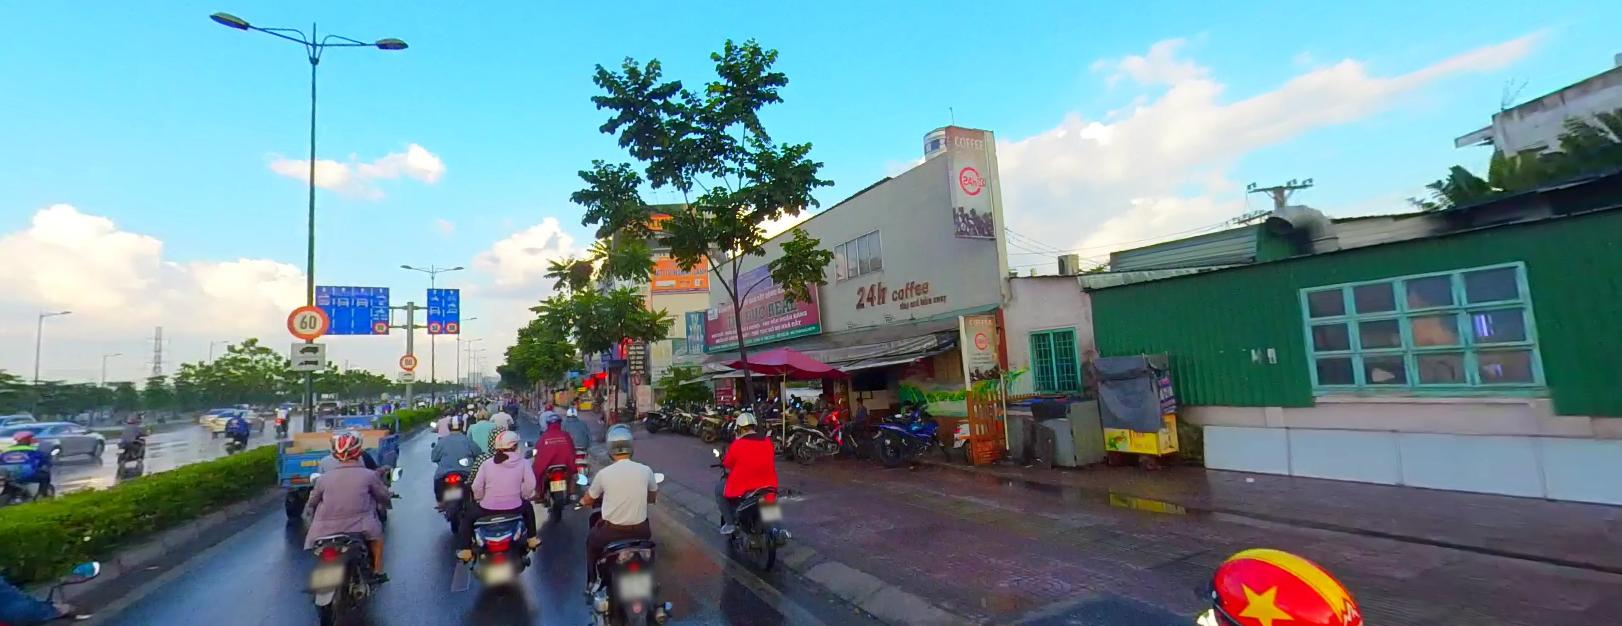Gioi han toc do: (286, 305, 332, 340), (398, 352, 416, 369), (371, 319, 388, 332), (445, 318, 458, 330), (428, 319, 441, 331)
